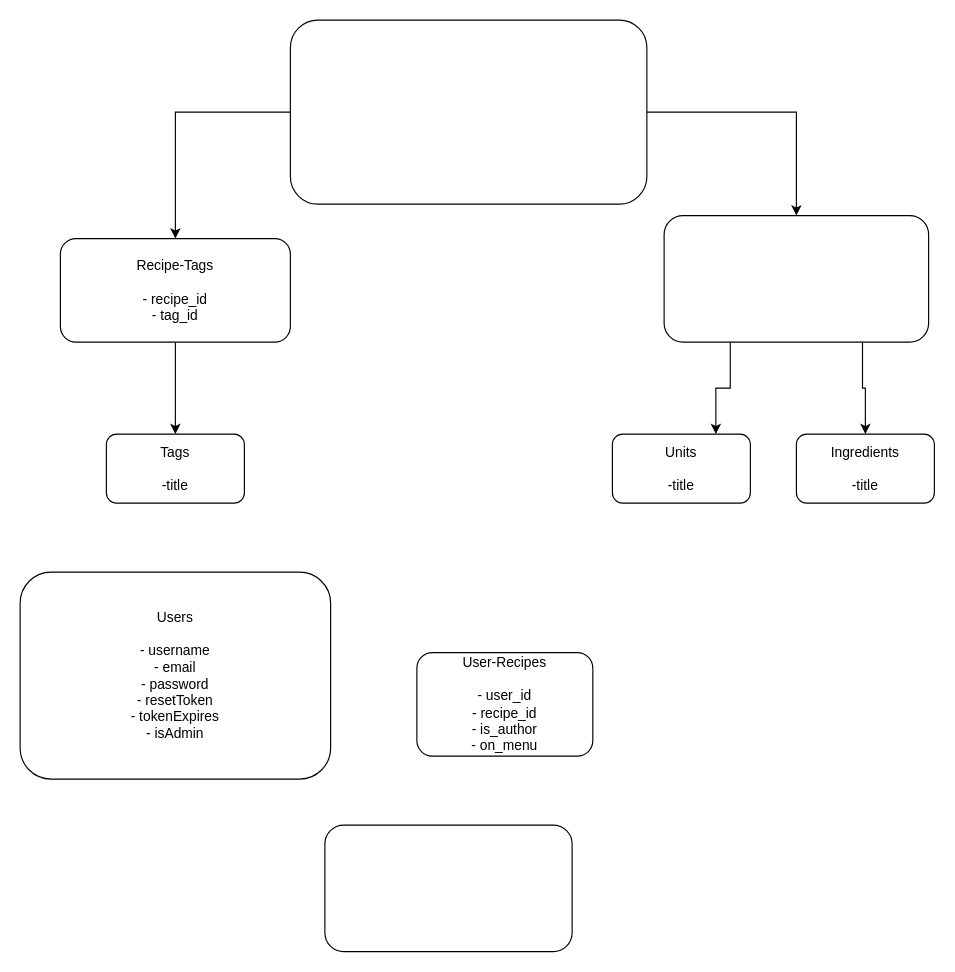
Image size: 955x972. Some labels were removed from this diagram. Here are the shapes that lost their labels. From the top down, the centre of each, then its label:
At point 468,111: "Recipes - Title - URL - Notes - Image".
At point 796,278: "Recipe-Ingredients - recipe_id - ingredient_id - unit_id - quantity".
At point 448,888: "User-GroceryList - user_id - ingredient_id - unit_id - quantity".
